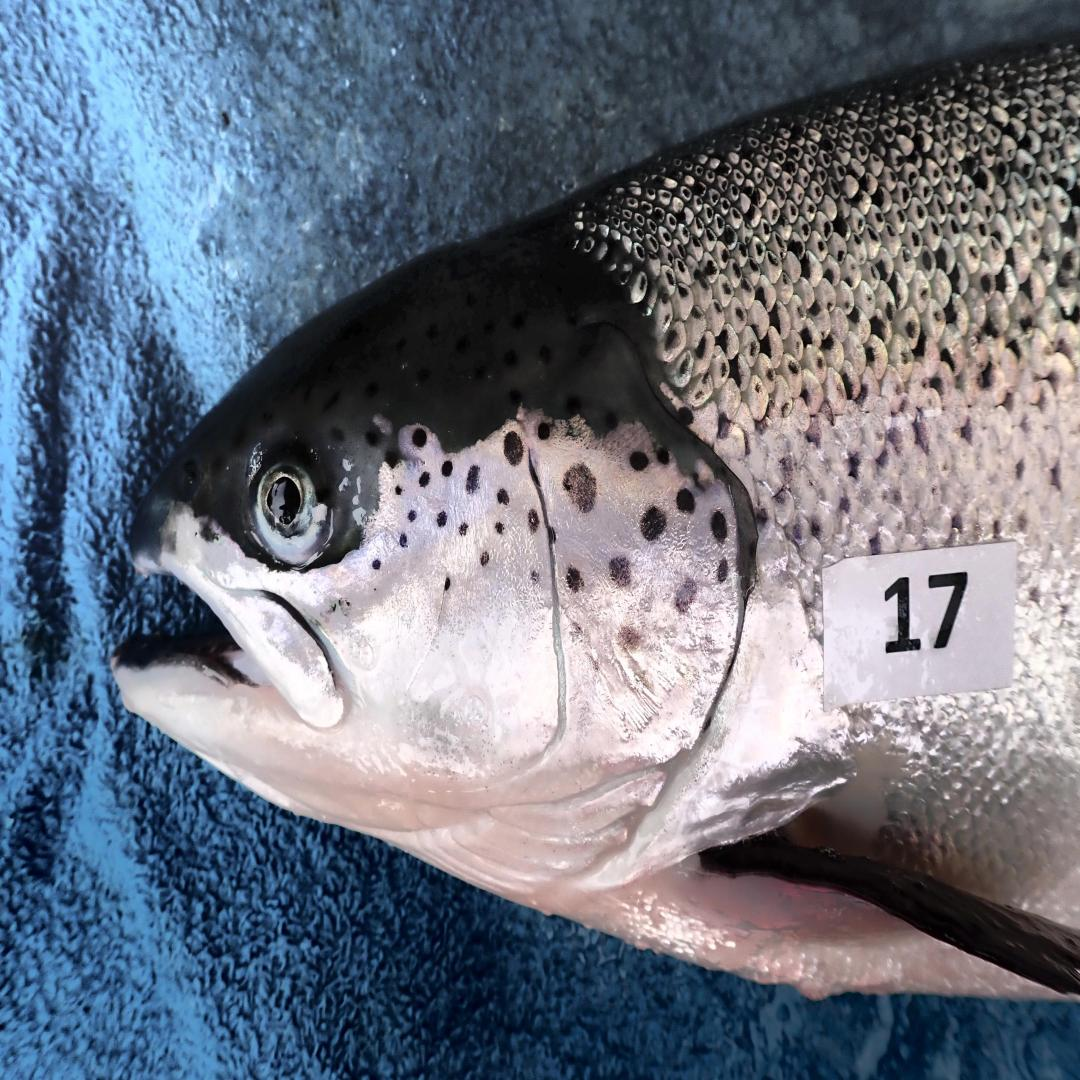spot: (563, 464, 597, 512), (639, 506, 667, 543), (675, 577, 696, 613), (616, 624, 643, 652), (563, 616, 589, 644), (610, 557, 631, 588), (504, 430, 523, 464), (565, 565, 584, 593), (711, 512, 728, 543), (466, 464, 479, 495), (677, 489, 694, 512), (631, 450, 648, 470), (527, 509, 540, 534), (411, 428, 428, 447), (546, 520, 557, 548), (656, 447, 671, 464), (717, 560, 728, 582), (538, 422, 551, 439), (441, 461, 454, 475), (496, 489, 508, 503), (371, 557, 382, 571), (529, 571, 540, 585), (420, 472, 430, 487), (458, 523, 468, 537), (437, 512, 447, 526), (479, 551, 489, 565), (494, 520, 504, 534), (399, 532, 407, 548), (407, 509, 418, 520), (443, 577, 451, 591), (394, 484, 403, 495)
